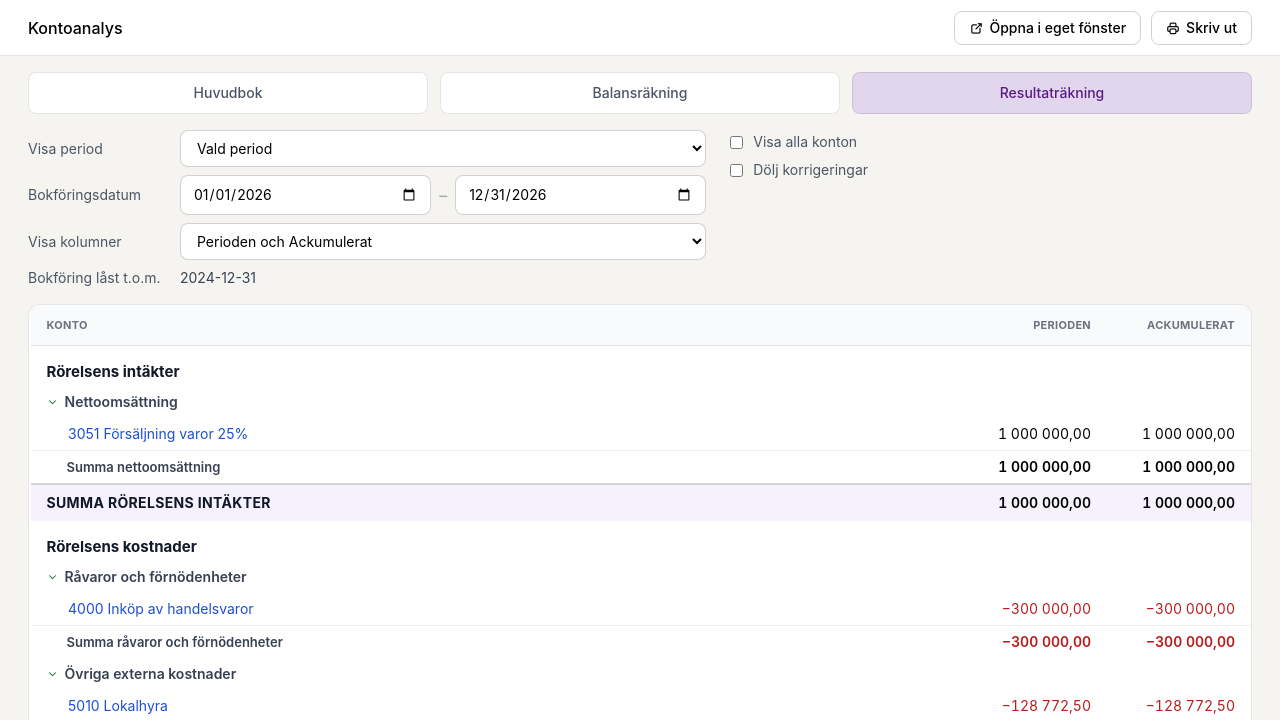
Kontoanalys – Resultaträkning › Visa alla konton visar/döljer nollkonton
Expected: the text "Rörelsens intäkter" is shown, [30, 346, 1251, 386]
Expected: the text "6000 Övriga externa kostnader" is not shown
Click the checkbox labelled "Visa alla konton" at (737, 142), box [730, 136, 743, 148]
(page scrolled)
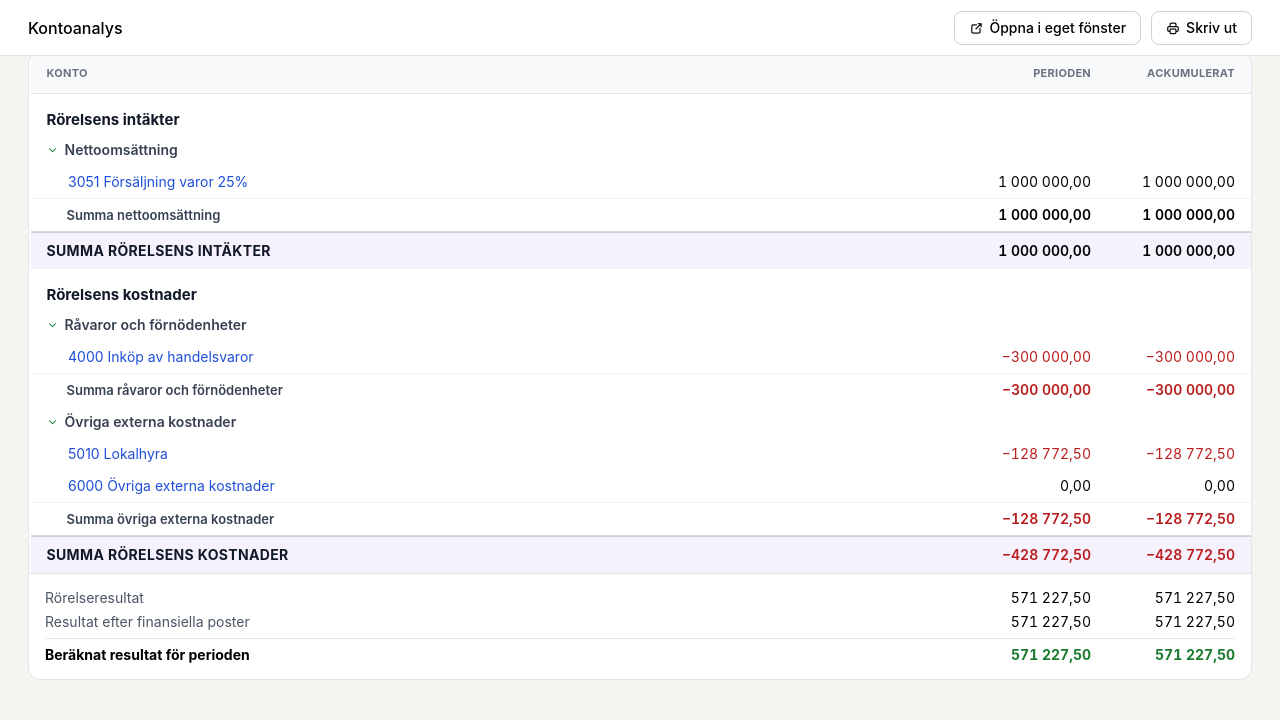
Now the text "6000 Övriga externa kostnader" is shown, box [68, 477, 275, 494]
